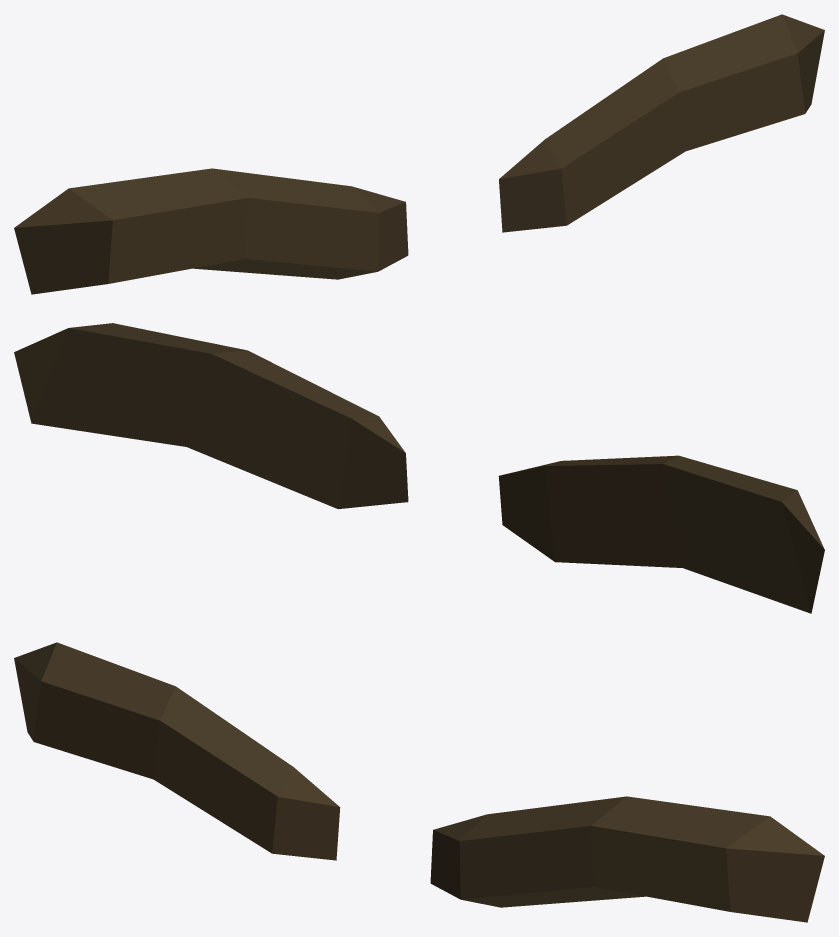
The model's file is Chr_Eyebrow_Female_01_Static.fbx.
3 views of the same model, one above another, from view 1: azimuth 30°, elevation 25°; view 2: azimuth 150°, elevation 25°; view 3: azimuth 330°, elevation 25° (orthographic).
Visible parts, largest first — view 1: Chr_Eyebrow_Female_01_Static; view 2: Chr_Eyebrow_Female_01_Static; view 3: Chr_Eyebrow_Female_01_Static.
Boxes of the visible parts, x1,y1,x2,y2 form: Chr_Eyebrow_Female_01_Static: (14,14,824,294); Chr_Eyebrow_Female_01_Static: (14,323,824,613); Chr_Eyebrow_Female_01_Static: (14,642,824,922).
Bounding box in the file's own units: 0.1722 × 0.0276 × 0.0195.
